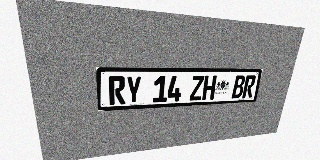1: (153, 76, 168, 103)
4: (167, 76, 182, 102)
B: (231, 75, 246, 98)
H: (202, 75, 217, 100)
R: (108, 76, 125, 105), (242, 75, 256, 98)
Y: (126, 76, 142, 104)
Z: (189, 76, 204, 101)
